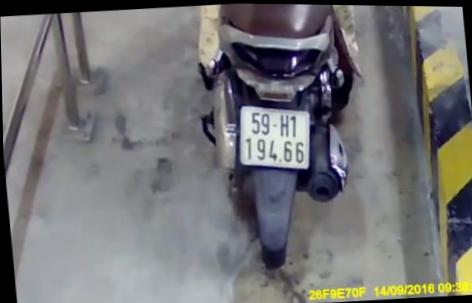LP: (235, 105, 314, 172)
